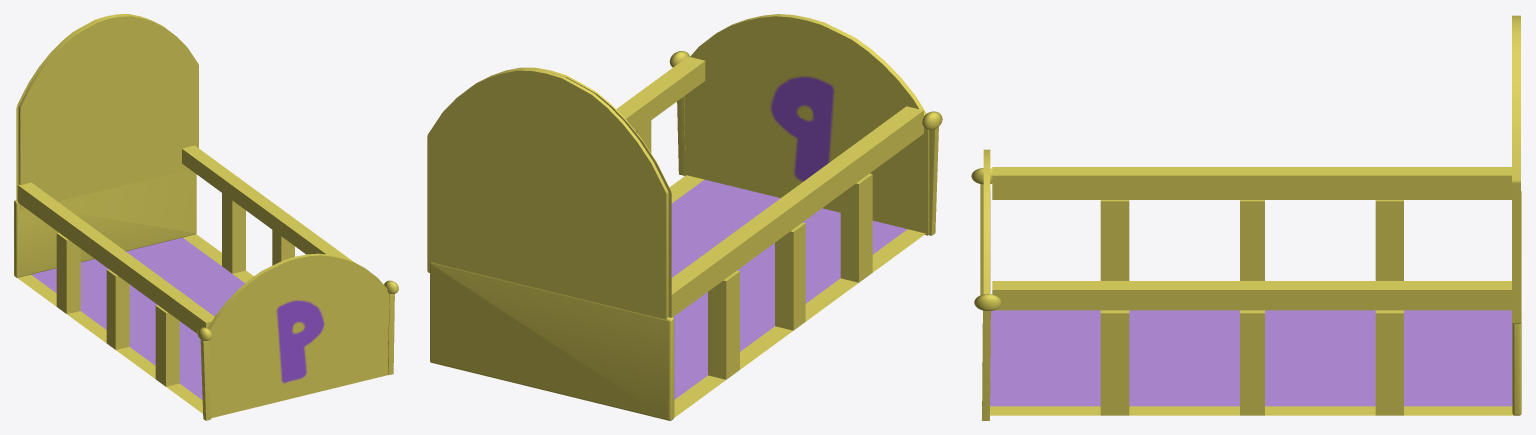
File: cuna.obj
The picture shows the model from 3 angles, left to right: view 1: azimuth 30°, elevation 25°; view 2: azimuth 150°, elevation 25°; view 3: azimuth 270°, elevation 25°; orthographic projection. The views are drawn at different scales.
Visible parts, largest first — view 1: kitty.002, kitty.001, Plano_Plano.001, Box067.002, Cubo_Cubo.001, Cubo.001_Cubo.002, Box074.001, Box074.003; view 2: kitty.002, kitty.001, Plano_Plano.001, Box067.002, Cubo_Cubo.001, Cubo.001_Cubo.002, Box074.001, Box074.003; view 3: Plano_Plano.001, Cubo_Cubo.001, Cubo.001_Cubo.002, kitty.002, kitty.001, Box067.002, Box074.003.
Boxes of the visible parts, bbox=[...] form: kitty.002: bbox=[16, 14, 198, 210]; kitty.001: bbox=[208, 253, 389, 417]; Plano_Plano.001: bbox=[17, 193, 294, 413]; Box067.002: bbox=[14, 169, 196, 277]; Cubo_Cubo.001: bbox=[17, 182, 214, 333]; Cubo.001_Cubo.002: bbox=[182, 145, 352, 261]; Box074.001: bbox=[200, 339, 211, 420]; Box074.003: bbox=[388, 293, 394, 374]; kitty.002: bbox=[427, 67, 671, 319]; kitty.001: bbox=[683, 14, 929, 235]; Plano_Plano.001: bbox=[636, 120, 925, 417]; Box067.002: bbox=[430, 262, 674, 420]; Cubo_Cubo.001: bbox=[671, 106, 923, 317]; Cubo.001_Cubo.002: bbox=[616, 56, 705, 131]; Box074.001: bbox=[929, 127, 938, 235]; Box074.003: bbox=[677, 96, 685, 175]; Plano_Plano.001: bbox=[990, 200, 1513, 415]; Cubo_Cubo.001: bbox=[992, 167, 1511, 199]; Cubo.001_Cubo.002: bbox=[992, 281, 1511, 310]; kitty.002: bbox=[1512, 15, 1520, 323]; kitty.001: bbox=[983, 149, 990, 294]; Box067.002: bbox=[1512, 191, 1521, 415]; Box074.003: bbox=[982, 310, 990, 420].
Size of the model in its own units: 1.95 by 2.23 by 3.36.
3 materials, 3 textured.
